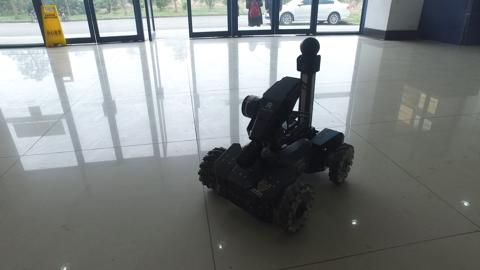car: (262, 1, 351, 26)
chariot: (196, 36, 358, 235)
